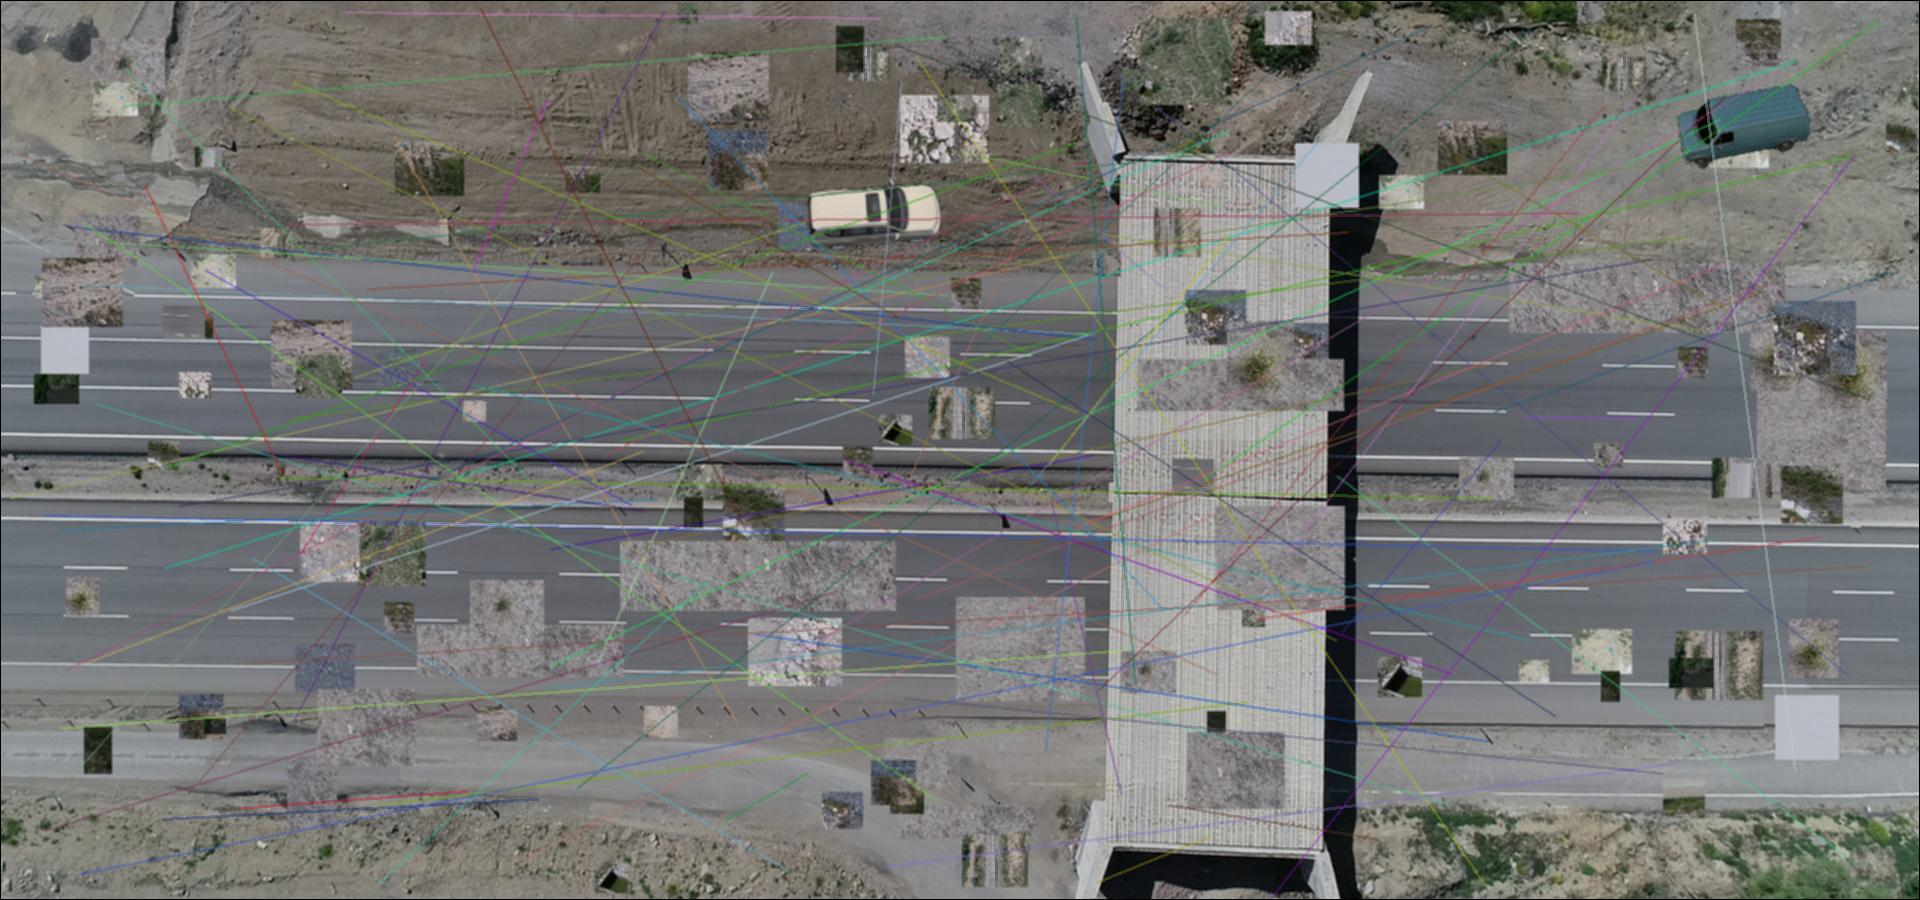arac: (1675, 83, 1811, 170), (804, 180, 945, 250)
